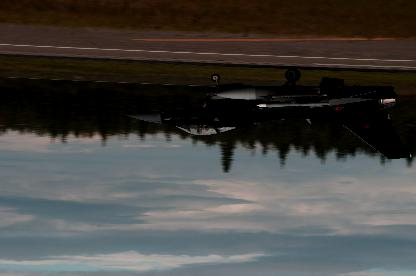F14: (119, 69, 413, 159)
